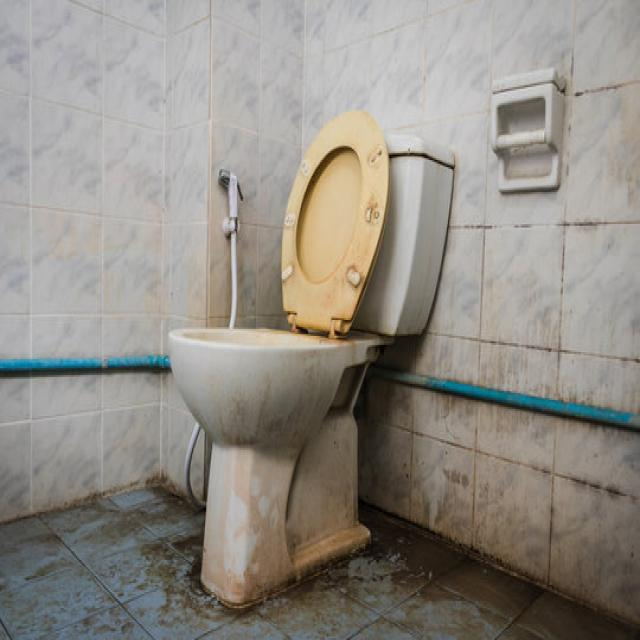dirty_floor: (1, 0, 638, 626), (1, 481, 638, 638)
